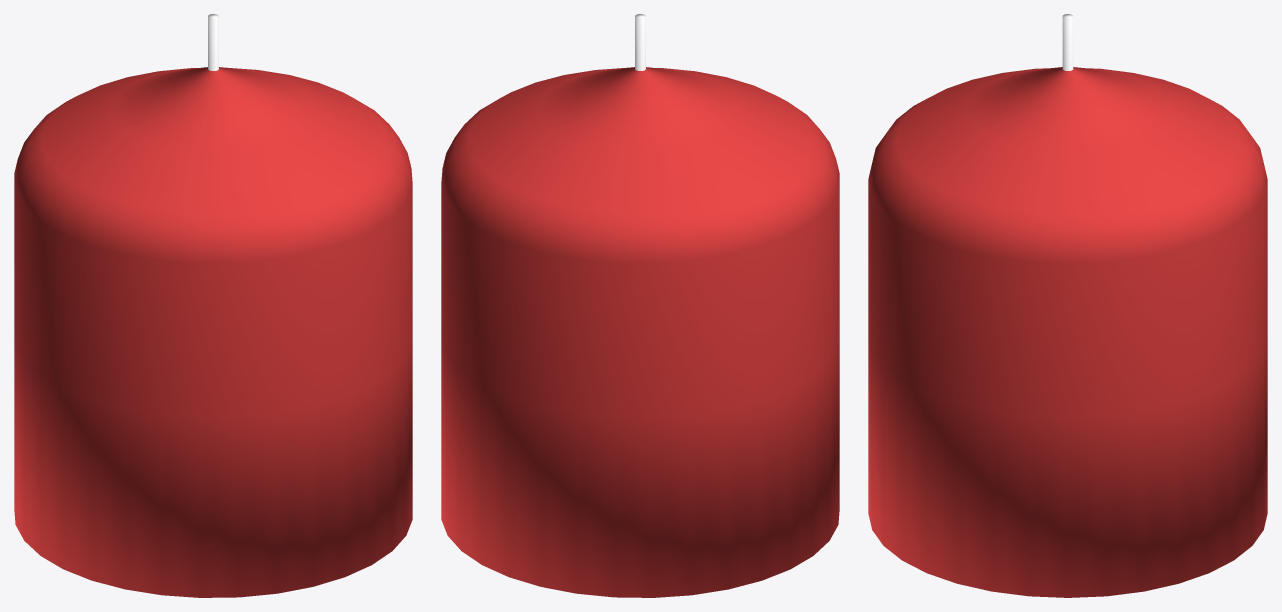
File: Candle.fbx
The picture shows the model from 3 angles, left to right: view 1: azimuth 30°, elevation 25°; view 2: azimuth 150°, elevation 25°; view 3: azimuth 270°, elevation 25°; orthographic projection.
Visible parts, largest first — view 1: Candle; view 2: Candle; view 3: Candle.
Boxes of the visible parts, box(x1,y1,x2,y2) form: Candle: box(14, 14, 412, 597); Candle: box(441, 14, 839, 597); Candle: box(868, 14, 1267, 597).
Size of the model in its own units: 65.86 by 90.51 by 65.86.
